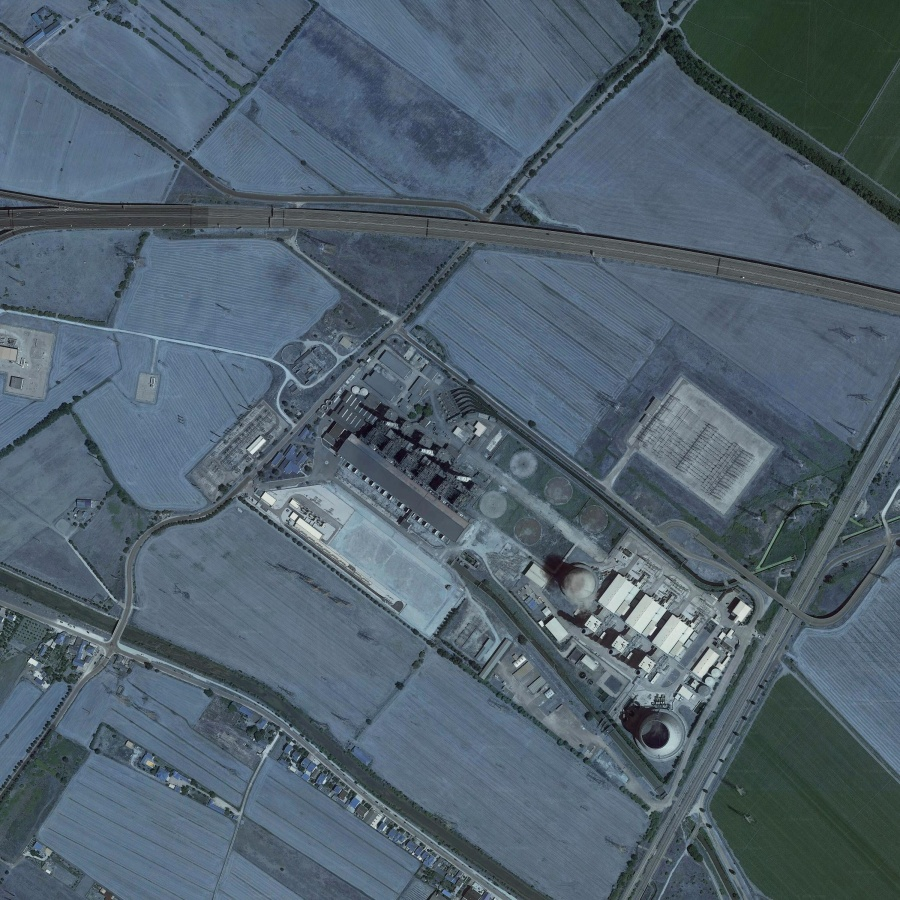PowerPlant: (295, 369, 749, 776)
